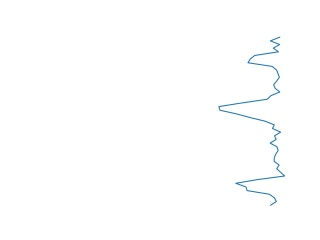underwaterNaturalLevee: (215, 36, 289, 209)
